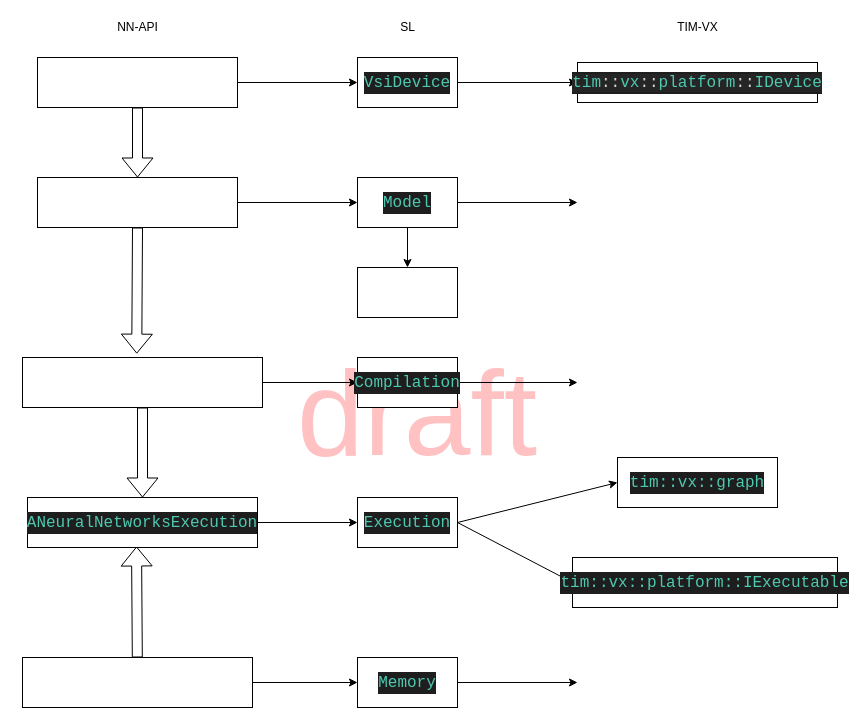
Some shapes in this 866 by 725 pixel diagram are drawn without their labels. The shapes that lost their labels are listed below. From the top down, each one's centre as x and y in pixels, then its label:
At point 137,82: "ANeuralNetworksDevice".
At point 137,202: "ANeuralNetworksModel".
At point 407,292: "Slang".
At point 142,382: "ANeuralNetworksCompilation".
At point 137,682: "ANeuralNetworksMemory".
